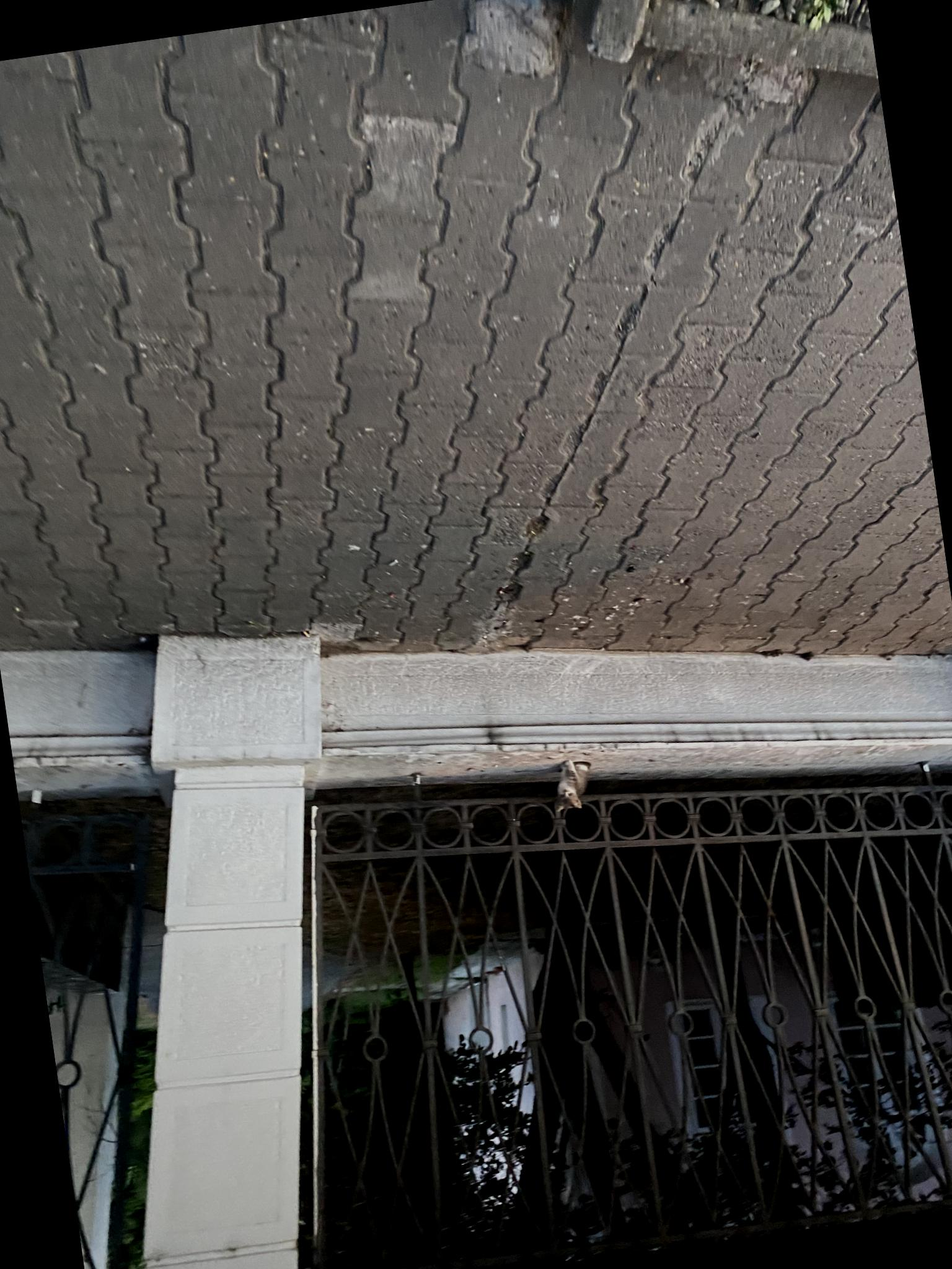macka: (549, 757, 597, 813)
